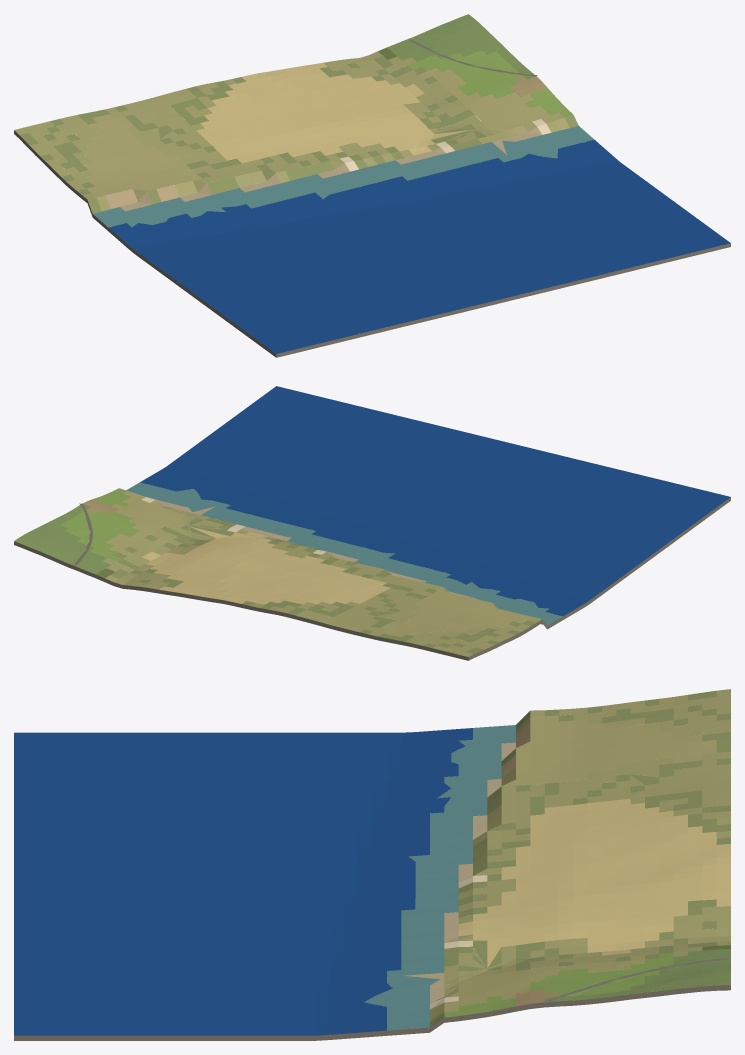
File: parca_-2_-6-uzak.glb
3 views of the same model, one above another, from view 1: azimuth 30°, elevation 25°; view 2: azimuth 150°, elevation 25°; view 3: azimuth 270°, elevation 25° (orthographic). The views are drawn at different scales.
Parts seen in each view (by area): view 1: parca_-2_-6_arazi_uzak; view 2: parca_-2_-6_arazi_uzak; view 3: parca_-2_-6_arazi_uzak.
Boxes of the visible parts, box(x1,y1,x2,y2) form: parca_-2_-6_arazi_uzak: box(14, 14, 730, 357); parca_-2_-6_arazi_uzak: box(14, 386, 730, 660); parca_-2_-6_arazi_uzak: box(14, 689, 730, 1040).
Bounding box in the file's own units: 1004 × 85.76 × 1000.
